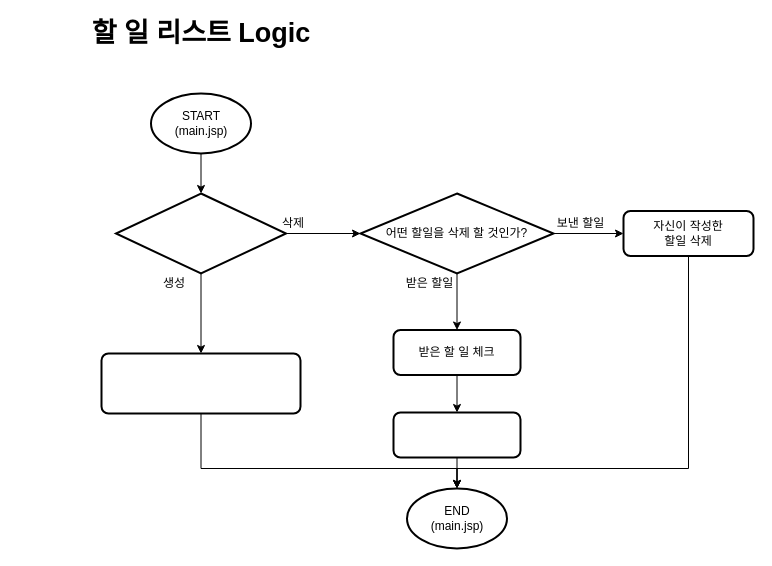
Some shapes in this 772 by 566 pixel diagram are drawn without their labels. Each missing label, with the centre of its shape:
받은 할 일 삭제: the point at 456,434
할 일 생성 (받을 사람 리스트, 할 일 내용): the point at 200,383
할 일을 생성할 것인가?: the point at 200,233
